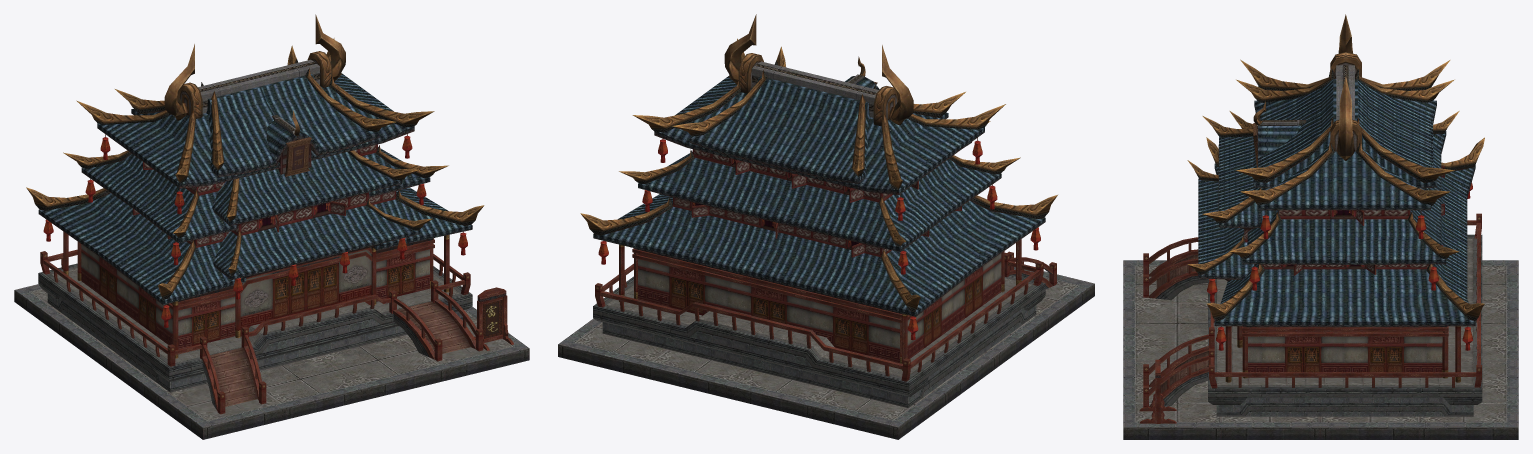
3 views of the same model, side by side, from view 1: azimuth 30°, elevation 25°; view 2: azimuth 150°, elevation 25°; view 3: azimuth 270°, elevation 25° (orthographic). The views are drawn at different scales.
Visible parts, largest first — view 1: g_30; view 2: g_30; view 3: g_30.
Part boxes in pixels (x1,y1,x2,y2): g_30: [14, 14, 529, 439]; g_30: [558, 14, 1094, 439]; g_30: [1123, 14, 1518, 439].
Size of the model in its own units: 20.27 by 17.26 by 20.01.
3 materials, 3 textured.
